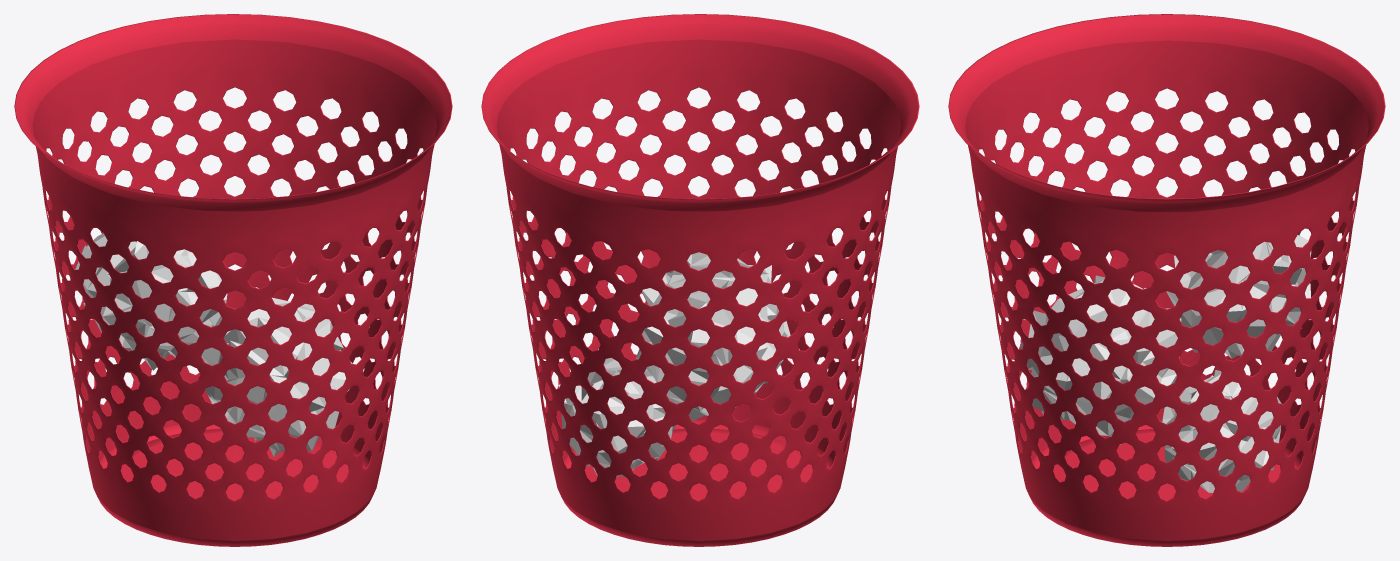
The model's file is Papelera.fbx.
The picture shows the model from 3 angles, left to right: view 1: azimuth 30°, elevation 25°; view 2: azimuth 150°, elevation 25°; view 3: azimuth 270°, elevation 25°; orthographic projection.
Visible parts, largest first — view 1: papelera, bola de papel.003, bola de papel.004; view 2: papelera, bola de papel.004, bola de papel.002, bola de papel.003; view 3: papelera, bola de papel.003, bola de papel.004, bola de papel.002.
Boxes of the visible parts, x1=… form: papelera: x1=14, y1=14, x2=452, y2=546; bola de papel.003: x1=202, y1=297, x2=352, y2=456; bola de papel.004: x1=75, y1=233, x2=227, y2=370; papelera: x1=481, y1=14, x2=919, y2=546; bola de papel.004: x1=636, y1=274, x2=775, y2=421; bola de papel.002: x1=558, y1=358, x2=676, y2=477; bola de papel.003: x1=642, y1=252, x2=790, y2=383; papelera: x1=948, y1=14, x2=1385, y2=546; bola de papel.003: x1=1020, y1=275, x2=1181, y2=445; bola de papel.004: x1=1166, y1=235, x2=1311, y2=358; bola de papel.002: x1=1160, y1=370, x2=1281, y2=492.
Size of the model in its own units: 49.49 by 47.61 by 49.49.
